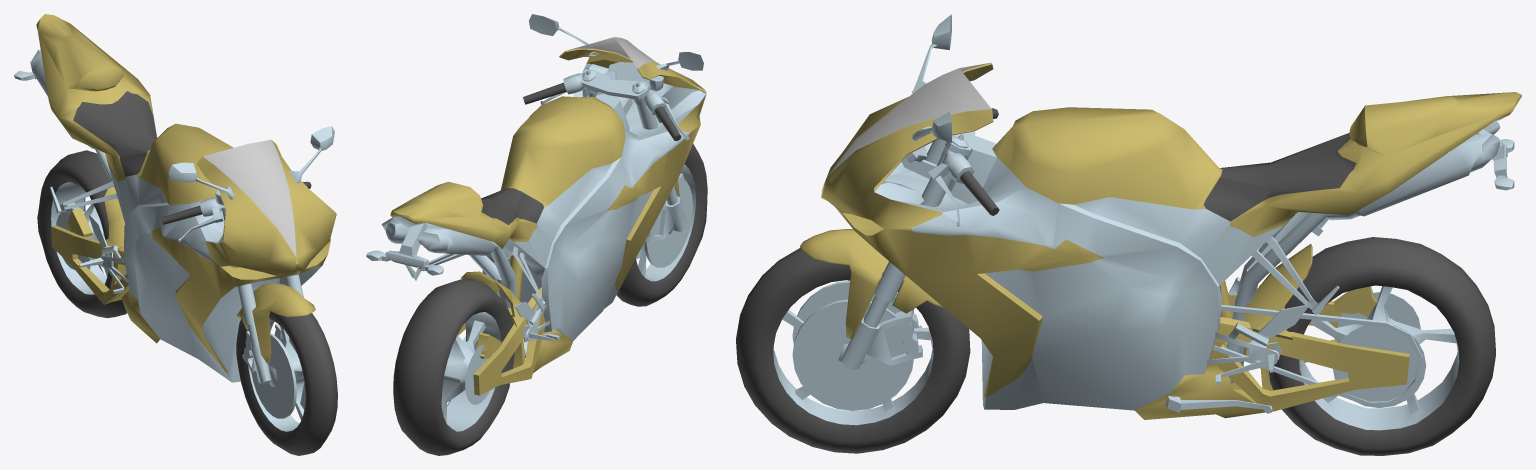
The model's file is bike1.fbx.
3 renders of one model, left to right at view 1: azimuth 30°, elevation 25°; view 2: azimuth 150°, elevation 25°; view 3: azimuth 270°, elevation 25°, orthographic. The views are drawn at different scales.
Parts seen in each view (by area): view 1: Bike1, FrontWheel, BackWheel, BackAngularAbsorber, Wing, Shape; view 2: Bike1, BackWheel, FrontWheel, BackAngularAbsorber, Shape, Wing; view 3: Bike1, FrontWheel, BackWheel, BackAngularAbsorber, Wing, Shape.
Part boxes in pixels (x1,y1,x2,y2): Bike1: (14, 14, 336, 382); FrontWheel: (236, 311, 337, 455); BackWheel: (37, 150, 126, 318); BackAngularAbsorber: (51, 186, 129, 304); Wing: (237, 283, 315, 384); Shape: (161, 181, 311, 325); Bike1: (366, 14, 706, 372); BackWheel: (393, 278, 514, 455); FrontWheel: (617, 144, 707, 306); BackAngularAbsorber: (457, 271, 545, 395); Shape: (523, 69, 689, 186); Wing: (645, 179, 686, 242); Bike1: (821, 14, 1521, 419); FrontWheel: (736, 247, 970, 453); BackWheel: (1269, 237, 1495, 455); BackAngularAbsorber: (1210, 244, 1422, 411); Wing: (800, 229, 943, 369); Shape: (874, 108, 999, 302).
Size of what is drawn, in the model's own units: 0.6904 by 1.1 by 2.05.
